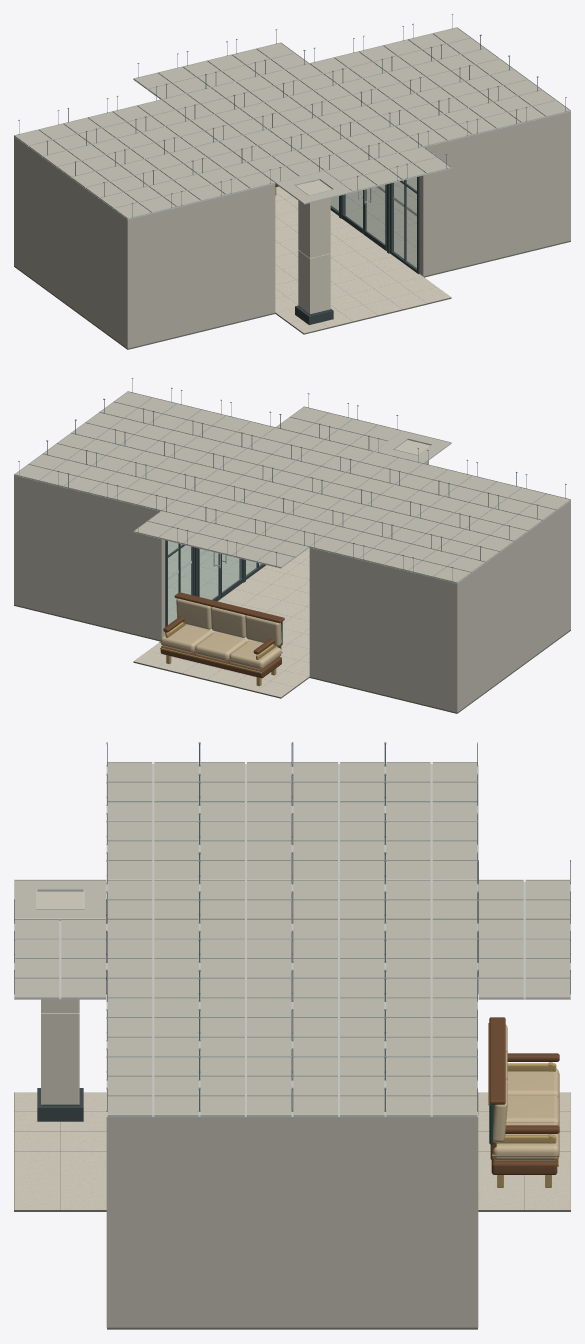
The model's file is corridor.glb.
3 views of the same model, one above another, from view 1: azimuth 30°, elevation 25°; view 2: azimuth 150°, elevation 25°; view 3: azimuth 270°, elevation 25° (orthographic). The views are drawn at different scales.
Visible parts, largest first — view 1: Shell_Side_AS, Shell_Side_BS, Shell_Back_A, CLADDING_Front_Lower, CLADDING_Front_Upper, GLASS_Right.001, GLASS_Left_Lower.003, GLASS_Right_Lower.003, CLADDING_Left_Lower, CLADDING_Left_Upper, GLASS_Left.001, BASE_Plinth; view 2: Shell_Side_AN, Shell_Side_BN, Shell_Back_A, gjh-lounge-bench, GLASS_Left.001, GLASS_Left_Lower.002, GLASS_Right.001, GLASS_Right_Lower.002; view 3: Shell_Back_B, gjh-lounge-bench, CLADDING_Right_Lower, MODULE_Tile_1.012, MODULE_Tile_3.012, BASE_Plinth, MODULE_Tile_2.006, MODULE_Tile_4.006, MODULE_Tile_2.012, MODULE_Tile_4.012, MODULE_Tile_2.017, MODULE_Tile_4.017 (+173 smaller).
Boxes of the visible parts, left/top/right/bottom form: Shell_Side_AS: left=126, top=184, right=275, bottom=347; Shell_Side_BS: left=421, top=112, right=570, bottom=276; Shell_Back_A: left=14, top=137, right=130, bottom=348; CLADDING_Front_Lower: left=309, top=253, right=330, bottom=314; CLADDING_Front_Upper: left=309, top=198, right=330, bottom=258; GLASS_Right.001: left=366, top=185, right=384, bottom=244; GLASS_Left_Lower.003: left=392, top=181, right=403, bottom=259; GLASS_Right_Lower.003: left=406, top=186, right=416, bottom=268; CLADDING_Left_Lower: left=298, top=250, right=309, bottom=313; CLADDING_Left_Upper: left=298, top=201, right=309, bottom=257; GLASS_Left.001: left=343, top=190, right=362, bottom=228; BASE_Plinth: left=295, top=305, right=333, bottom=324; Shell_Side_AN: left=309, top=548, right=458, bottom=712; Shell_Side_BN: left=16, top=476, right=163, bottom=640; Shell_Back_A: left=454, top=502, right=569, bottom=712; gjh-lounge-bench: left=159, top=592, right=284, bottom=686; GLASS_Left.001: left=200, top=549, right=218, bottom=599; GLASS_Left_Lower.002: left=168, top=550, right=178, bottom=624; GLASS_Right.001: left=222, top=554, right=241, bottom=592; GLASS_Right_Lower.002: left=181, top=545, right=192, bottom=594; Shell_Back_B: left=106, top=1115, right=478, bottom=1327; gjh-lounge-bench: left=488, top=1017, right=559, bottom=1187; CLADDING_Right_Lower: left=42, top=1013, right=78, bottom=1104; MODULE_Tile_1.012: left=14, top=1170, right=60, bottom=1190; MODULE_Tile_3.012: left=60, top=1170, right=106, bottom=1190; BASE_Plinth: left=37, top=1088, right=83, bottom=1121; MODULE_Tile_2.006: left=14, top=1151, right=60, bottom=1170; MODULE_Tile_4.006: left=60, top=1151, right=106, bottom=1170; MODULE_Tile_2.012: left=14, top=1190, right=60, bottom=1209; MODULE_Tile_4.012: left=60, top=1190, right=106, bottom=1209; MODULE_Tile_2.017: left=478, top=1190, right=524, bottom=1209; MODULE_Tile_4.017: left=524, top=1190, right=570, bottom=1209.
Size of the model in its own units: 10.8 by 3.39 by 7.2.
Materials: 37 (2 with a texture image).
